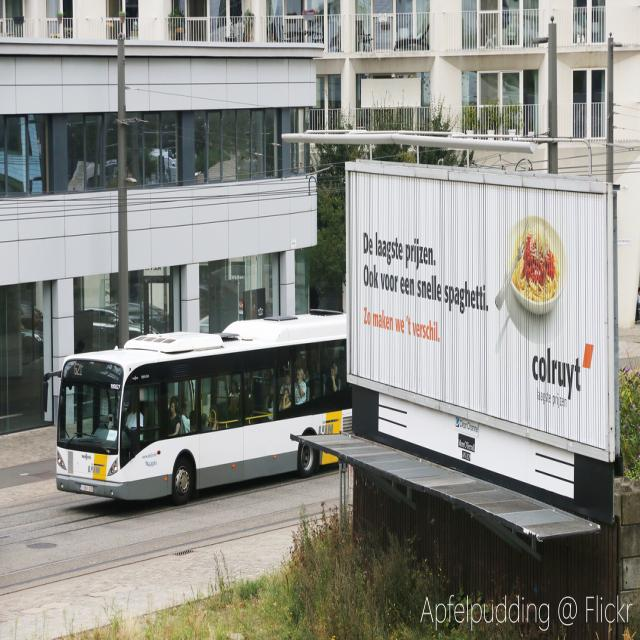bus-number: (74, 362, 82, 377)
